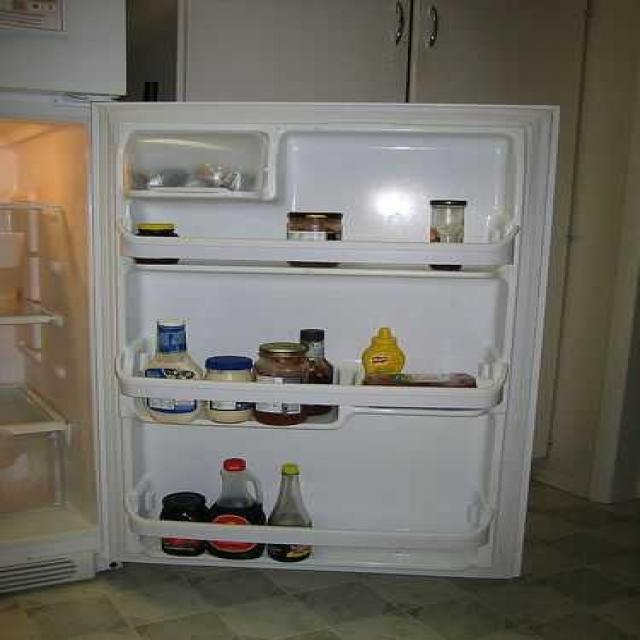refrigerator: (0, 108, 529, 588)
